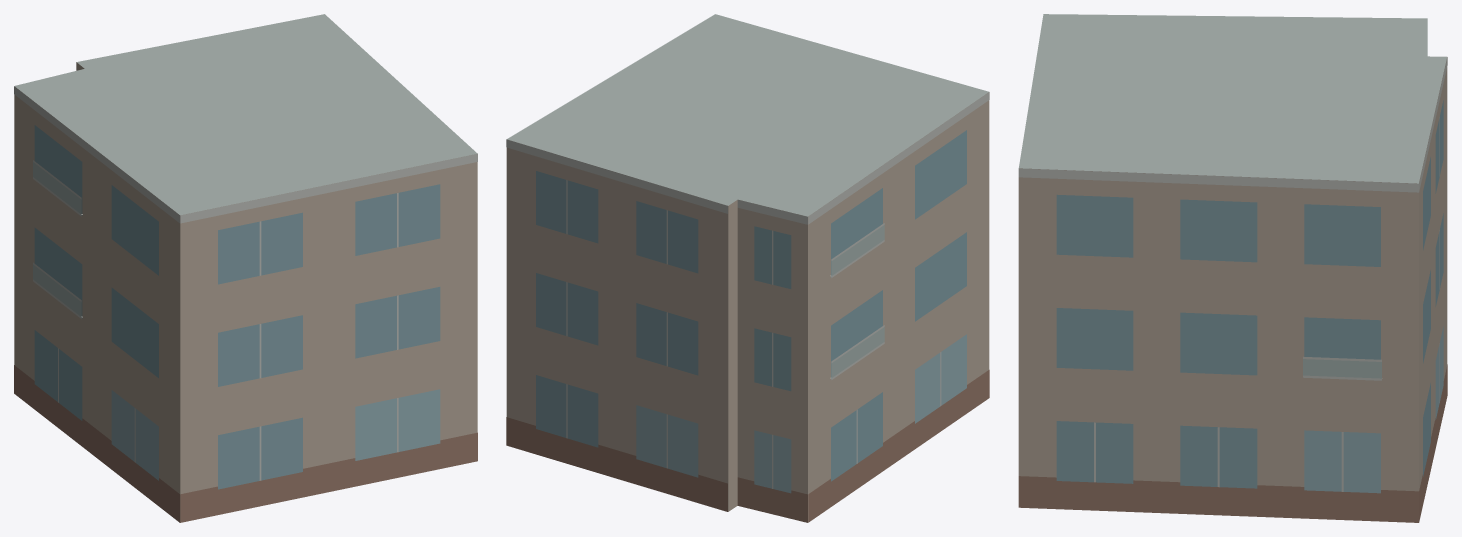
File: survey-upis-32585654.glb
3 renders of one model, left to right at view 1: azimuth 30°, elevation 25°; view 2: azimuth 150°, elevation 25°; view 3: azimuth 270°, elevation 25°, orthographic. The views are drawn at different scales.
Parts seen in each view (by area): view 1: survey-upis-32585654.tmp; view 2: survey-upis-32585654.tmp; view 3: survey-upis-32585654.tmp.
Part boxes in pixels (x1,y1,x2,y2): survey-upis-32585654.tmp: (14, 14, 477, 522); survey-upis-32585654.tmp: (506, 14, 989, 522); survey-upis-32585654.tmp: (1018, 14, 1447, 522).
Size of the model in its own units: 9.81 by 9.15 by 10.48.
